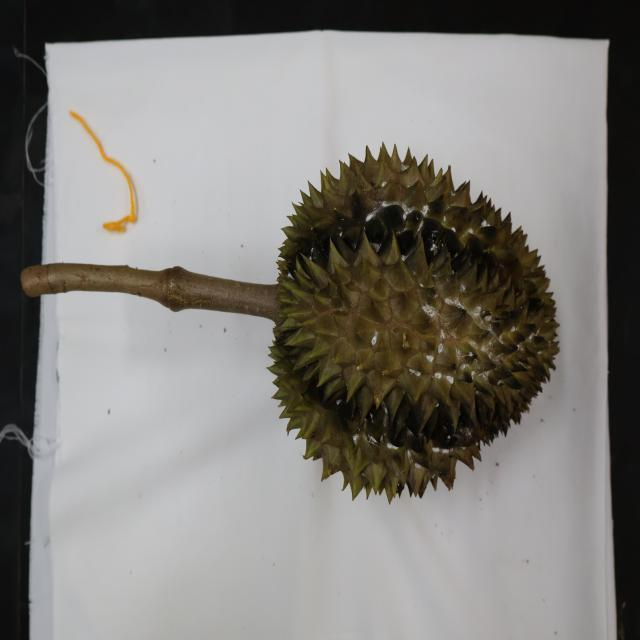defective: (269, 138, 563, 511)
